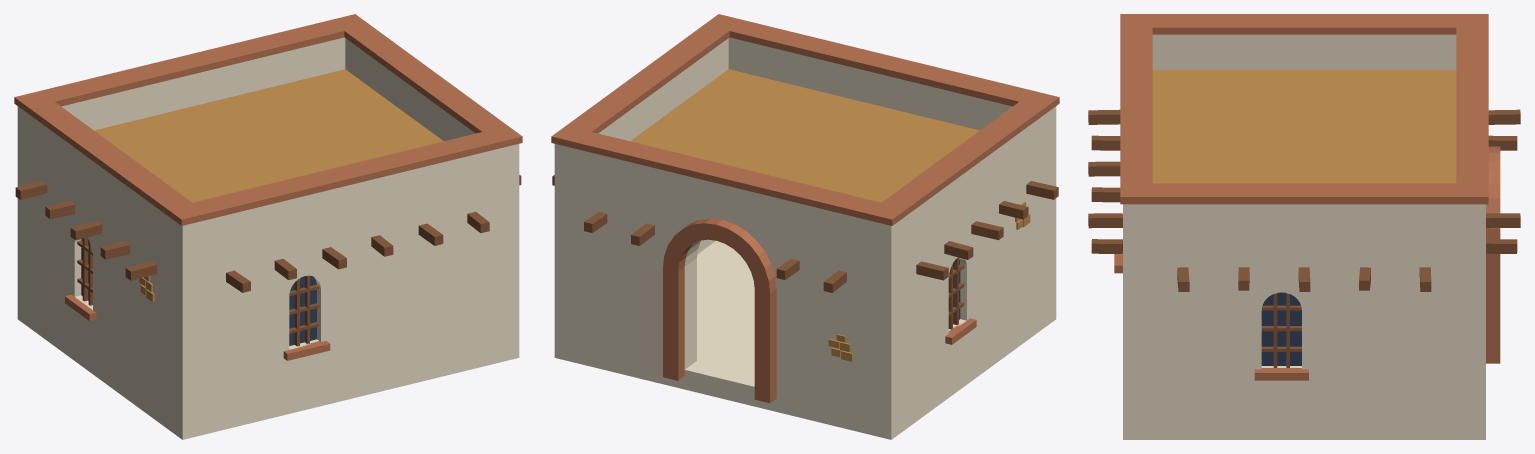
Rendered from house_small.glb.
3 renders of one model, left to right at view 1: azimuth 30°, elevation 25°; view 2: azimuth 150°, elevation 25°; view 3: azimuth 270°, elevation 25°, orthographic. The views are drawn at different scales.
Visible parts, largest first — view 1: wall_back-col, wall_left-col, roof-col, coping-col, wall_front-col, floor-col, wall_right-col; view 2: wall_front-col, wall_left-col, roof-col, coping-col, floor-col, wall_back-col, wall_right-col; view 3: wall_right-col, roof-col, coping-col, wall_left-col, wall_front-col, wall_back-col, floor-col.
Boxes of the visible parts, x1=… form: wall_back-col: x1=170, y1=144, x2=519, y2=426; wall_left-col: x1=15, y1=108, x2=203, y2=426; roof-col: x1=94, y1=69, x2=443, y2=202; coping-col: x1=14, y1=14, x2=522, y2=225; wall_front-col: x1=17, y1=37, x2=345, y2=312; floor-col: x1=17, y1=300, x2=519, y2=439; wall_right-col: x1=345, y1=38, x2=521, y2=349; wall_front-col: x1=554, y1=144, x2=903, y2=426; wall_left-col: x1=870, y1=115, x2=1058, y2=426; roof-col: x1=630, y1=69, x2=979, y2=202; coping-col: x1=551, y1=14, x2=1059, y2=225; floor-col: x1=554, y1=240, x2=1056, y2=439; wall_back-col: x1=728, y1=37, x2=1056, y2=314; wall_right-col: x1=552, y1=38, x2=728, y2=336; wall_right-col: x1=1123, y1=204, x2=1485, y2=424; roof-col: x1=1152, y1=70, x2=1456, y2=183; coping-col: x1=1120, y1=14, x2=1488, y2=204; wall_left-col: x1=1152, y1=34, x2=1456, y2=69; wall_front-col: x1=1459, y1=109, x2=1520, y2=418; wall_back-col: x1=1088, y1=109, x2=1149, y2=418; floor-col: x1=1123, y1=418, x2=1485, y2=439.
Size of the model in its own units: 7.67 by 4.15 by 6.67.
